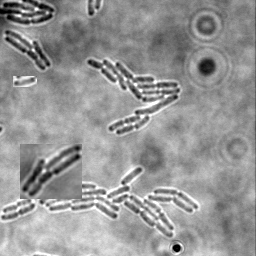Dividing: (1, 204, 37, 222), (3, 199, 33, 215)
Microcolony: (40, 167, 199, 238), (87, 59, 181, 136), (20, 144, 82, 199), (5, 30, 52, 72), (1, 1, 56, 26)
Rod: (13, 76, 37, 87)
